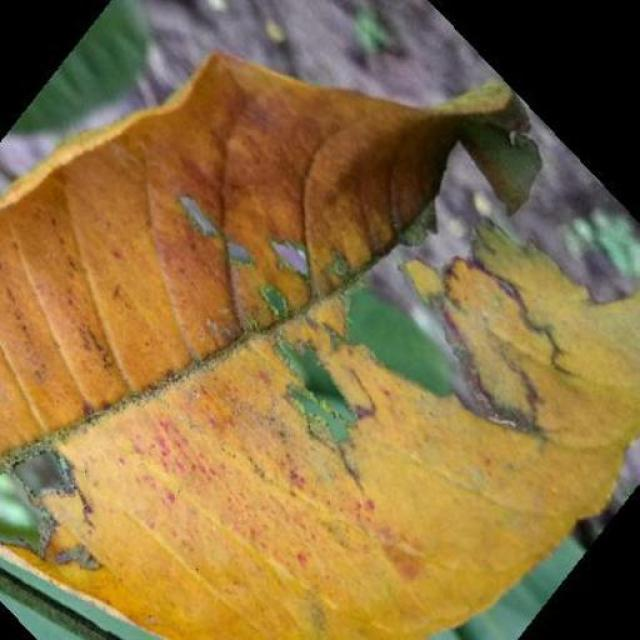Rust: (0, 58, 640, 640)
